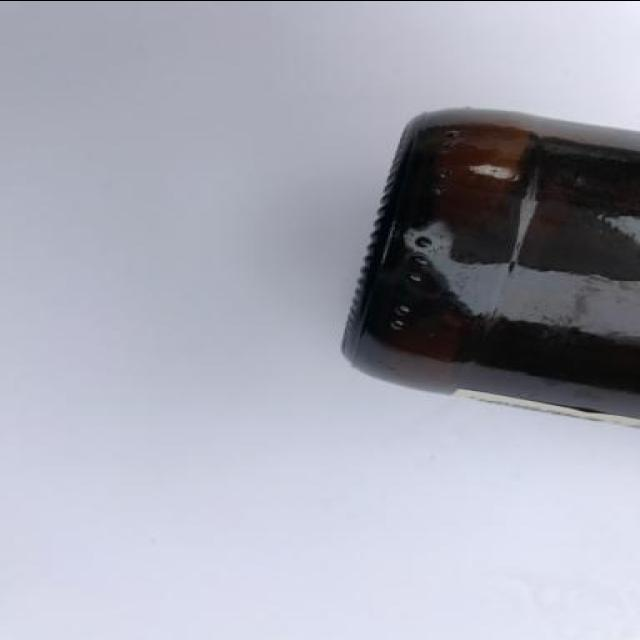Glass Bottle: (341, 103, 640, 430)
